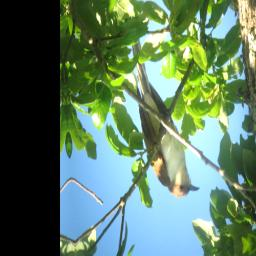Cuckoo: (128, 23, 203, 207)
